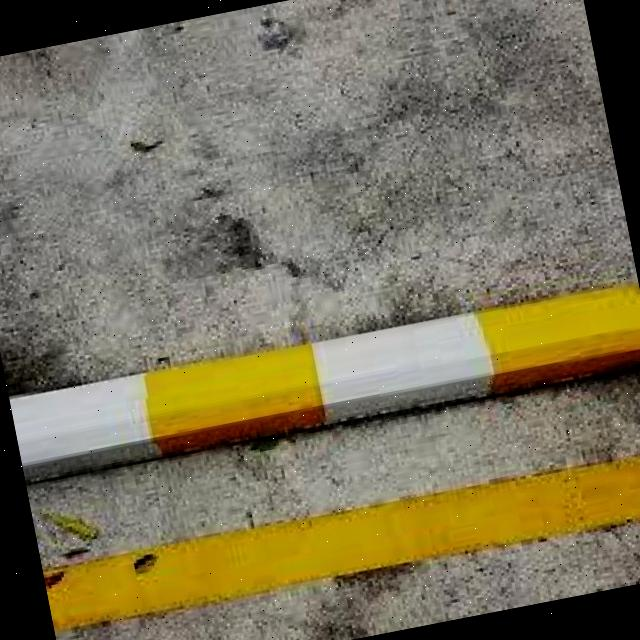curb: (10, 278, 640, 496)
